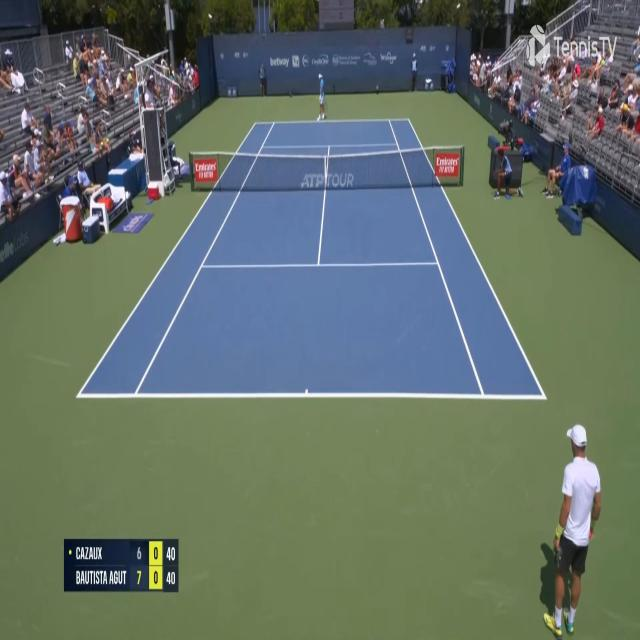tennis-player: (535, 421, 602, 639), (316, 72, 328, 124)
